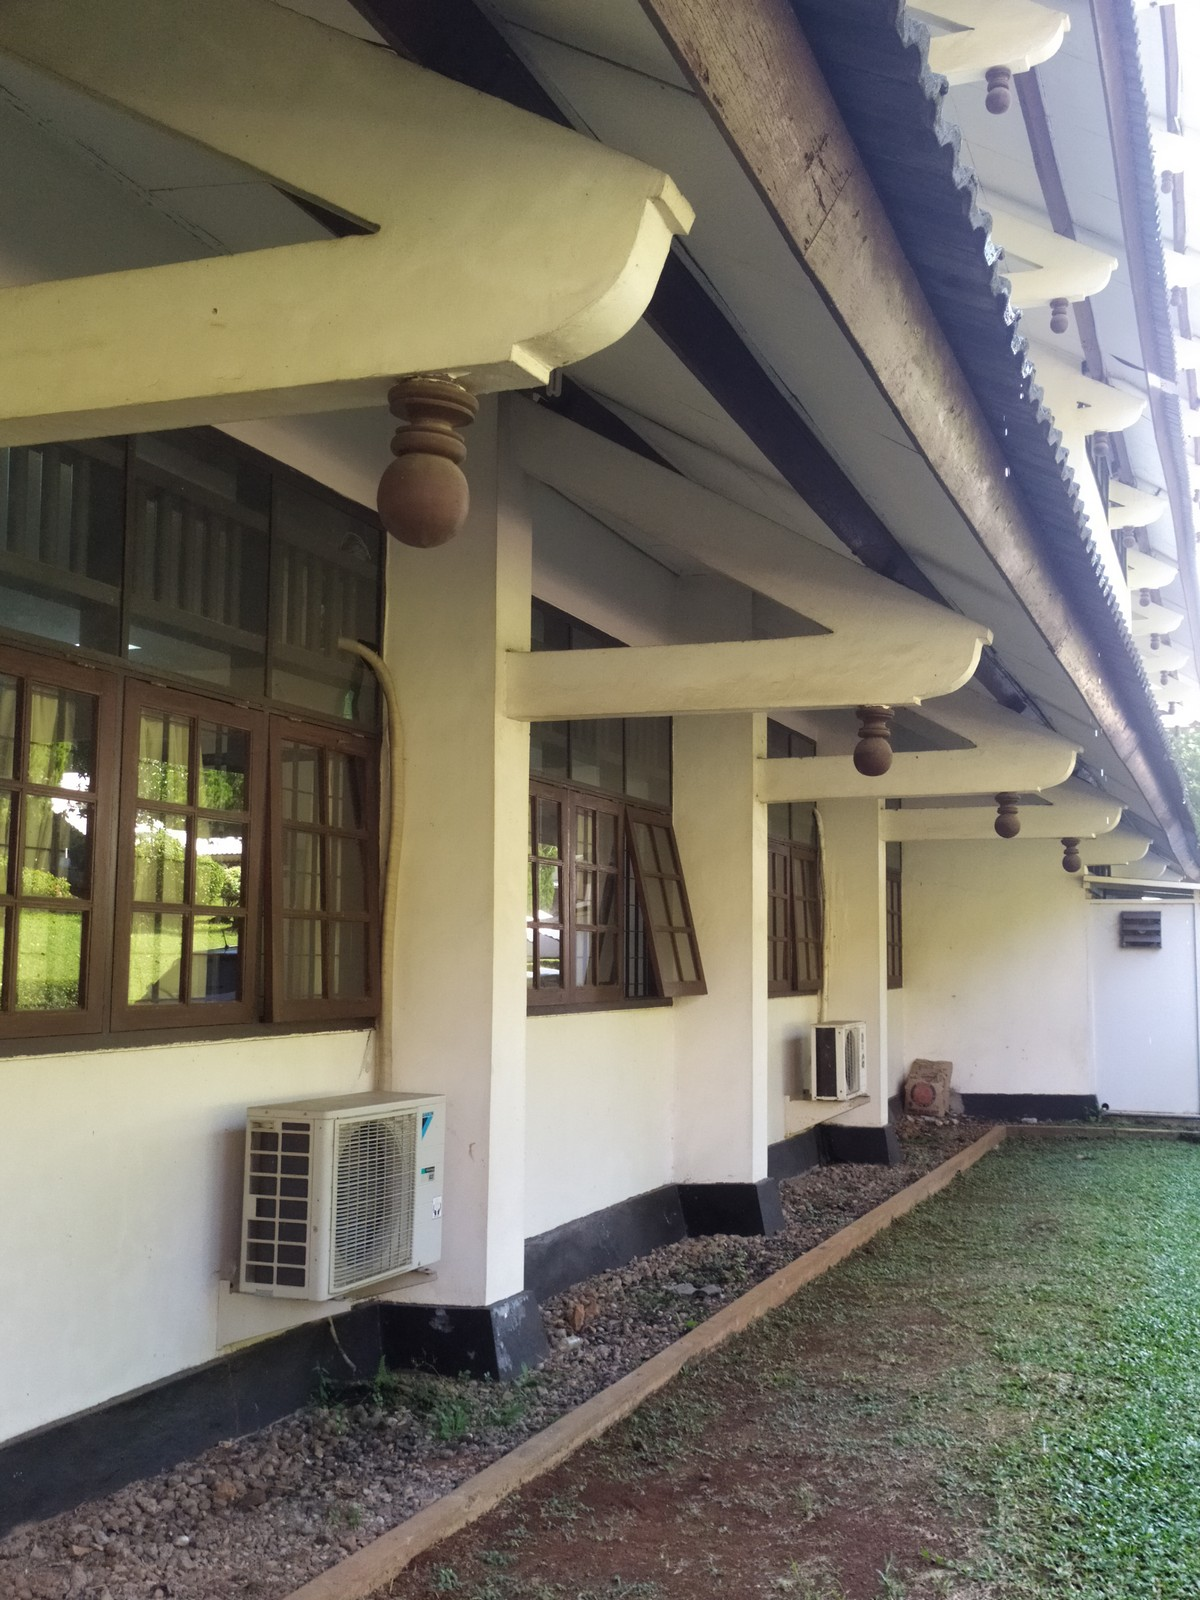concrete beam: (6, 241, 449, 455), (499, 629, 861, 727), (749, 746, 1010, 815)
concrete column: (379, 535, 546, 1346), (661, 722, 780, 1214), (813, 805, 906, 1150)
